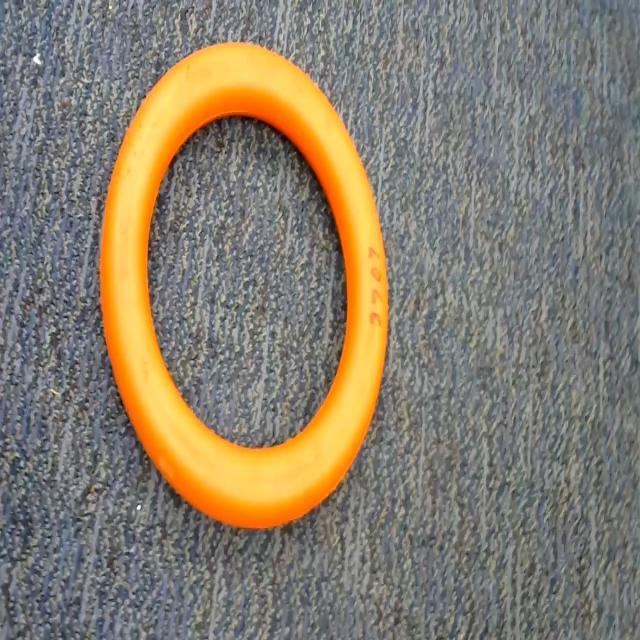note: (99, 38, 408, 546)
